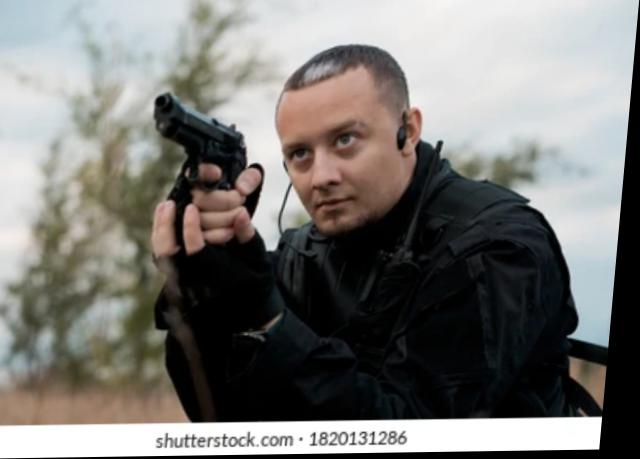other: (244, 47, 529, 420)
